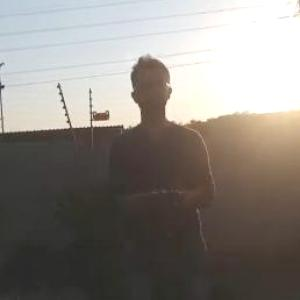follow: (103, 45, 221, 299)
